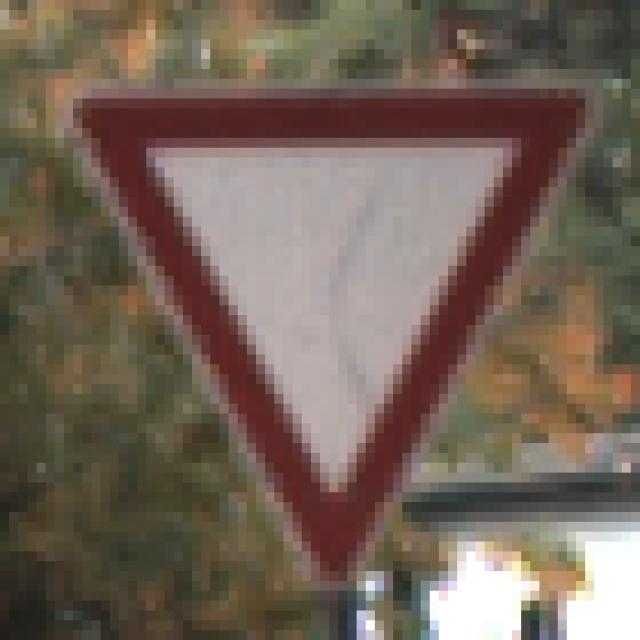Give Way: (65, 60, 586, 592)
